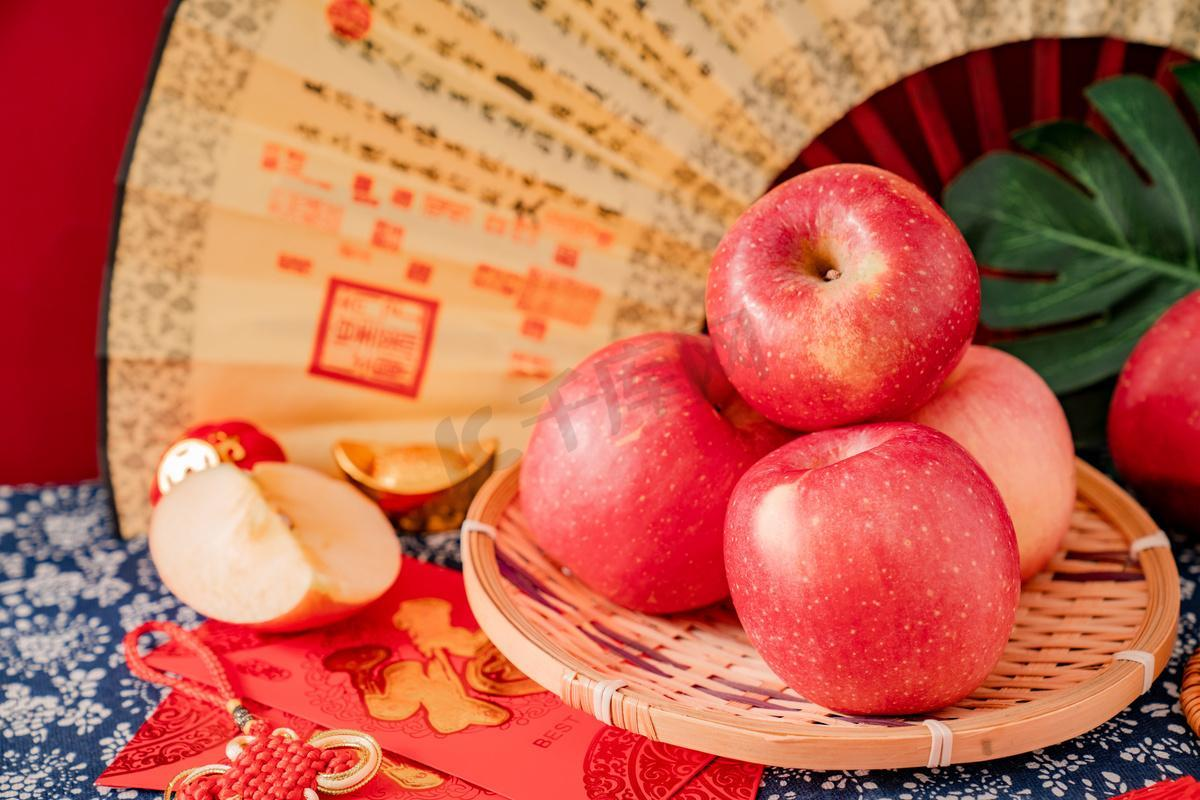apple: (713, 431, 1016, 722), (512, 334, 801, 615), (702, 163, 979, 431), (894, 342, 1077, 579), (148, 461, 401, 632), (1105, 291, 1198, 538)
